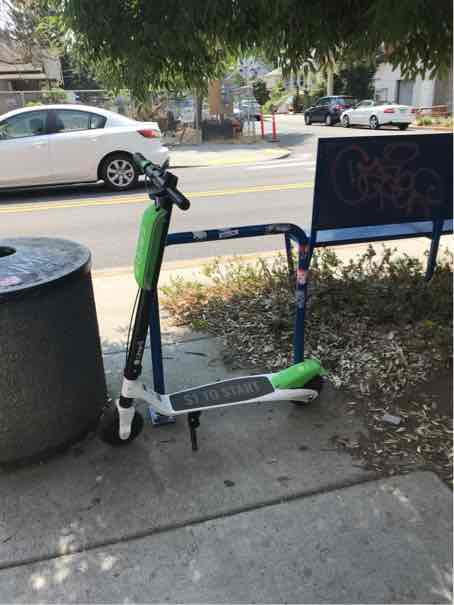scooter: (102, 150, 337, 449)
